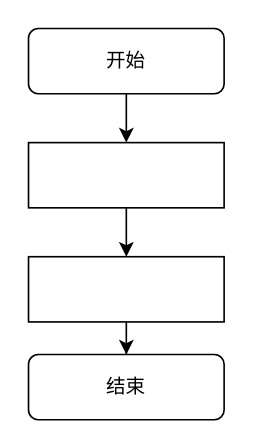
Some shapes in this 253 by 448 pixel diagram are drawn without their labels. The shapes that lost their labels are listed below. From the top down, each one's centre as x and y in pixels, then its label:
the point at 125,174: 管理员登录
the point at 125,288: 查看信息
